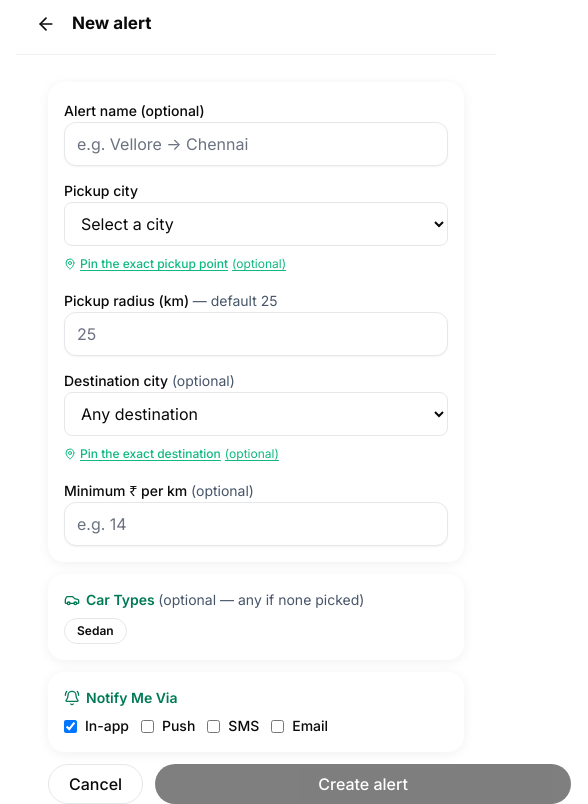
Test case: CreateAlertPage › keeps "Create alert" disabled until a pickup city is chosen
Expected: the button "Create alert" is disabled, [155, 764, 571, 803]
Select "Vellore" in the dropdown labelled "Pickup city" at (256, 224), box [64, 202, 448, 246]
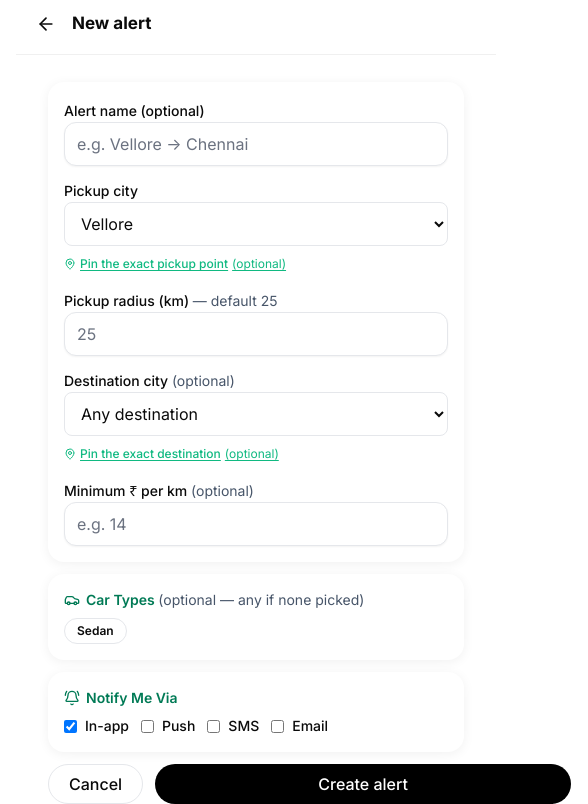
Expected: the button "Create alert" is enabled, [155, 764, 571, 803]
